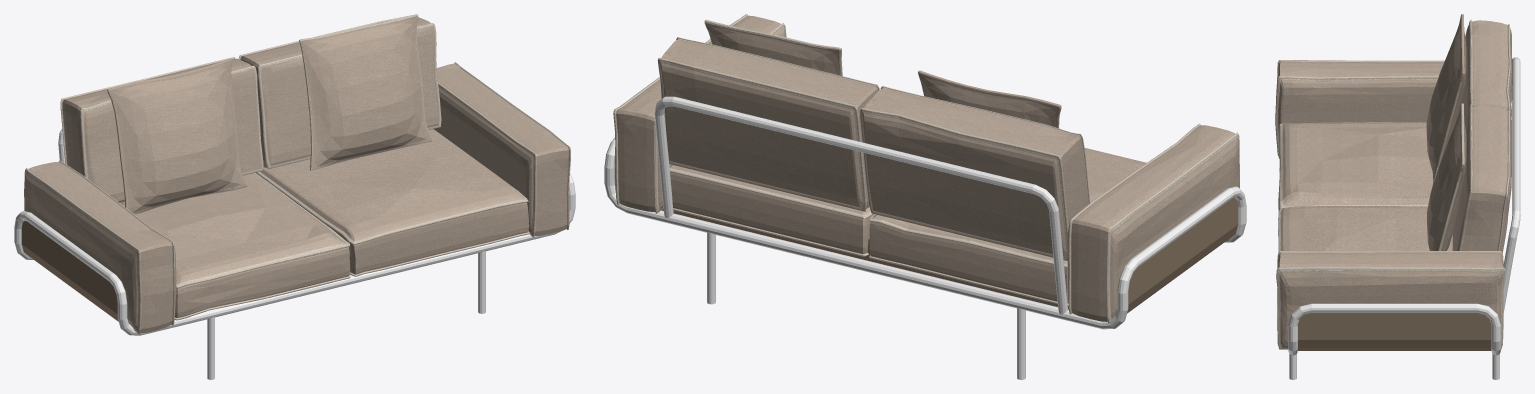
Rendered from sweethome3d-scopia-sofa-124.glb.
3 views of the same model, side by side, from view 1: azimuth 30°, elevation 25°; view 2: azimuth 150°, elevation 25°; view 3: azimuth 270°, elevation 25° (orthographic). The views are drawn at different scales.
Parts seen in each view (by area): view 1: cushion_base3_Cube.003, cushion_base2_Cube.004, cushion_Cube.007, cushion.001_Cube.006, cushion_base_Cube, cushion_base4_Cube.001, cushion_base6_Cube.002, cushion_base5_Cube.005, structure_Cylinder, cover_Cylinder.001; view 2: cushion_base6_Cube.002, cushion_base5_Cube.005, structure_Cylinder, cushion_base_Cube, cushion_base2_Cube.004, cushion_base3_Cube.003, cushion_base4_Cube.001, cover_Cylinder.001, cushion.001_Cube.006, cushion_Cube.007; view 3: cushion_base4_Cube.001, cushion_base2_Cube.004, cushion_base_Cube, cover_Cylinder.001, cushion_base5_Cube.005, cushion_base3_Cube.003, structure_Cylinder, cushion_base6_Cube.002, cushion.001_Cube.006, cushion_Cube.007.
Boxes of the visible parts, x1,y1,x2,y2 form: cushion_base3_Cube.003: (256, 129, 529, 276); cushion_base2_Cube.004: (122, 173, 350, 320); cushion_Cube.007: (107, 58, 246, 214); cushion.001_Cube.006: (299, 14, 432, 170); cushion_base_Cube: (24, 160, 176, 334); cushion_base4_Cube.001: (434, 62, 570, 237); cushion_base6_Cube.002: (60, 57, 263, 204); cushion_base5_Cube.005: (238, 15, 441, 169); structure_Cylinder: (14, 129, 575, 379); cover_Cylinder.001: (21, 220, 349, 321); cushion_base6_Cube.002: (860, 86, 1089, 260); cushion_base5_Cube.005: (657, 37, 879, 211); structure_Cylinder: (604, 96, 1246, 379); cushion_base_Cube: (1067, 123, 1239, 323); cushion_base2_Cube.004: (868, 148, 1146, 306); cushion_base3_Cube.003: (669, 164, 873, 256); cushion_base4_Cube.001: (613, 14, 786, 213); cover_Cylinder.001: (661, 197, 1238, 313); cushion.001_Cube.006: (704, 19, 842, 76); cushion_Cube.007: (918, 70, 1061, 128); cushion_base4_Cube.001: (1276, 251, 1505, 349); cushion_base2_Cube.004: (1278, 122, 1433, 211); cushion_base_Cube: (1275, 60, 1444, 158); cover_Cylinder.001: (1298, 313, 1491, 350); cushion_base5_Cube.005: (1452, 105, 1511, 252); cushion_base3_Cube.003: (1278, 206, 1452, 251); structure_Cylinder: (1288, 57, 1520, 379); cushion_base6_Cube.002: (1461, 19, 1512, 127); cushion.001_Cube.006: (1427, 103, 1466, 250); cushion_Cube.007: (1426, 14, 1466, 185).
Bounding box in the file's own units: 174 × 84.76 × 82.26.
5 materials, 3 textured.
